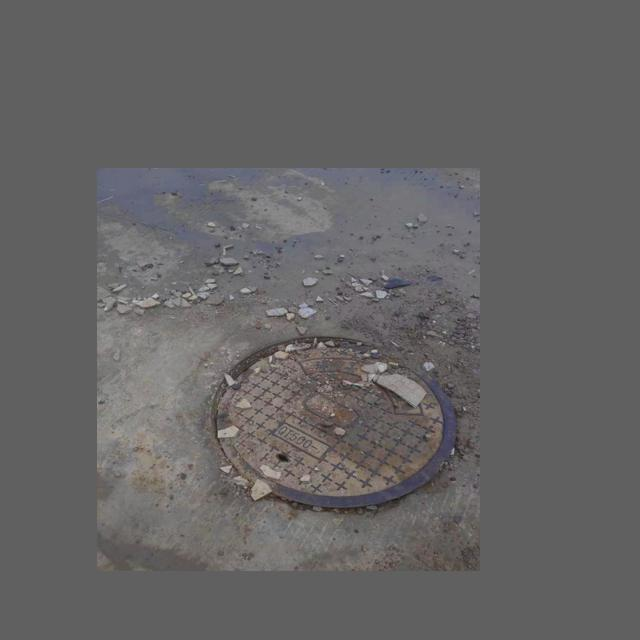uncovered: (211, 336, 456, 508)
